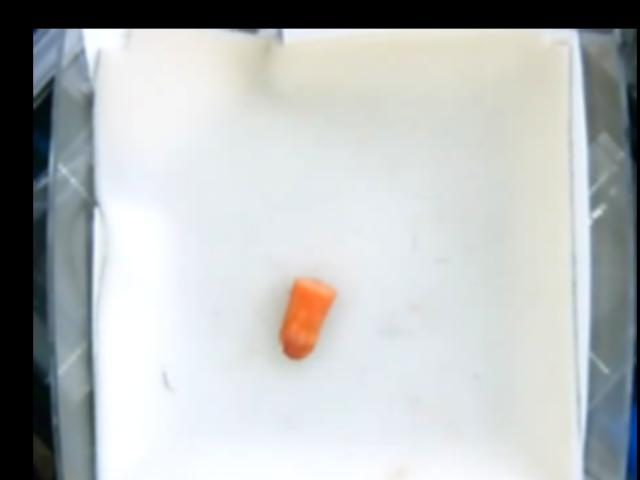Carrot: (280, 275, 336, 360)
